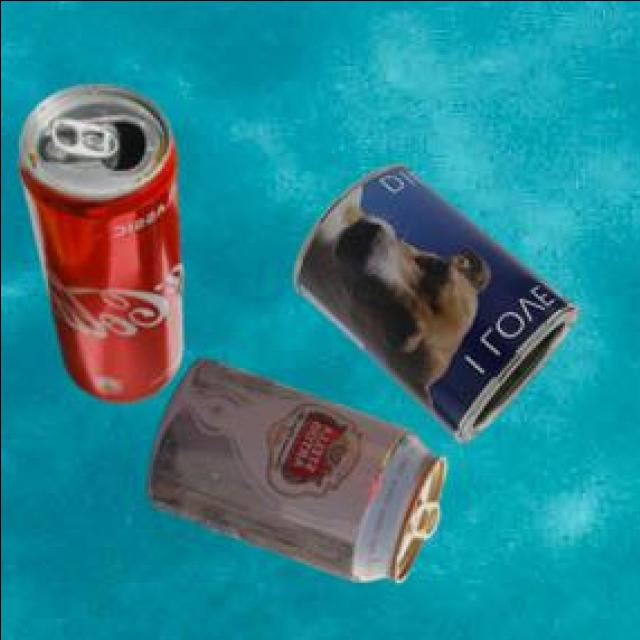logam: (297, 162, 583, 440), (151, 355, 449, 578), (21, 79, 185, 399)
